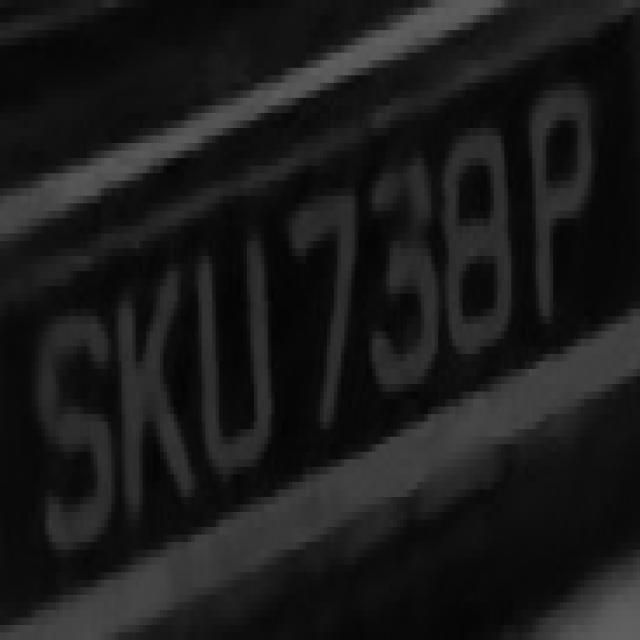3: (358, 128, 442, 459)
7: (275, 166, 358, 437)
8: (435, 120, 515, 407)
K: (115, 233, 195, 534)
P: (508, 83, 598, 316)
S: (24, 294, 111, 564)
U: (195, 196, 275, 489)
